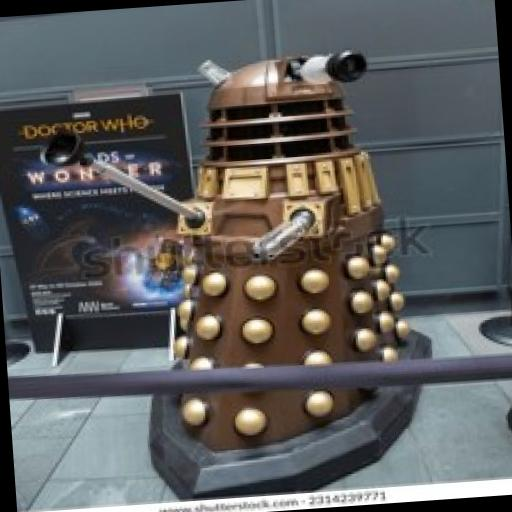dalek: (32, 46, 440, 502)
